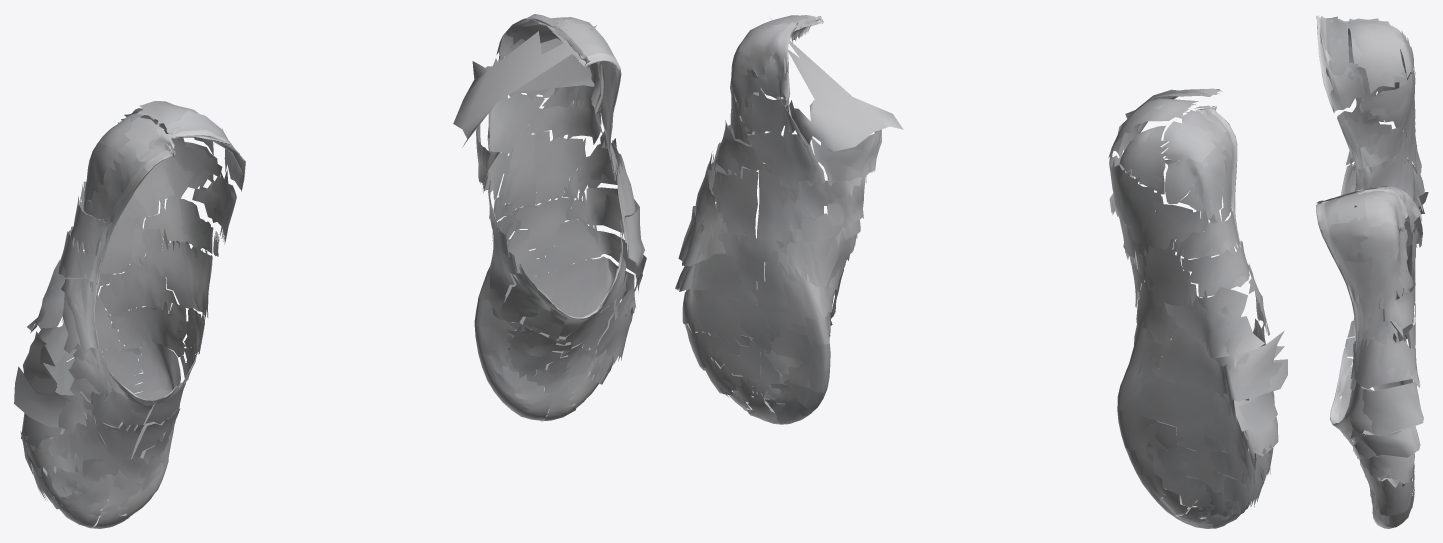
Rendered from adult-base-01.glb.
The picture shows the model from 3 angles, left to right: view 1: azimuth 30°, elevation 25°; view 2: azimuth 150°, elevation 25°; view 3: azimuth 270°, elevation 25°; orthographic projection. The views are drawn at different scales.
Parts seen in each view (by area): view 1: geometry_0; view 2: geometry_0; view 3: geometry_0.
Part boxes in pixels (bbox=[...]): geometry_0: bbox=[14, 14, 646, 528]; geometry_0: bbox=[675, 15, 1287, 528]; geometry_0: bbox=[1316, 15, 1428, 528].
Bounding box in the file's own units: 0.00385 × 0.00255 × 0.000749.
1 material, 1 textured.
